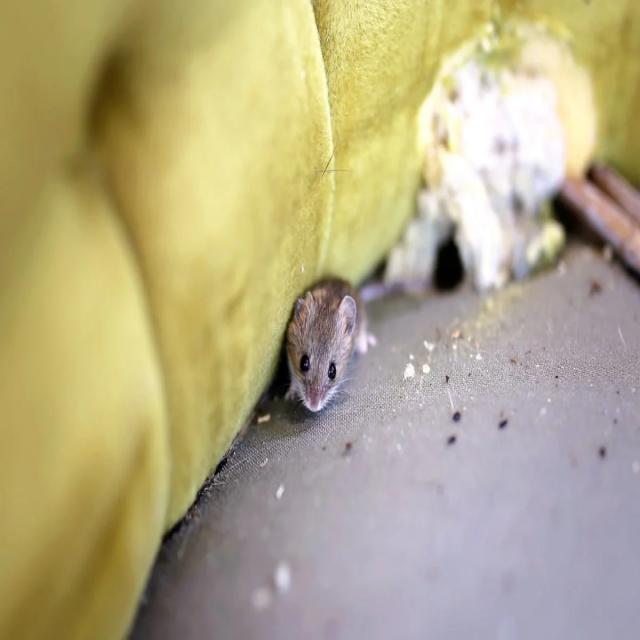rat: (274, 260, 372, 417)
